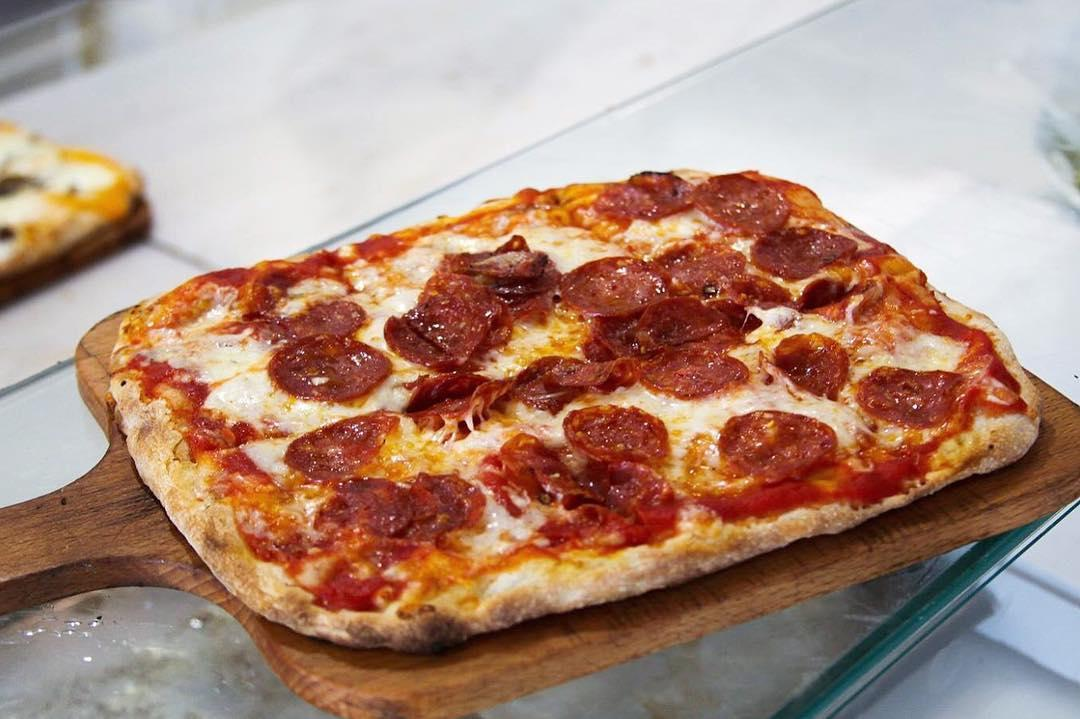Pepperoni: (309, 474, 483, 555), (389, 270, 517, 366), (586, 300, 728, 361), (288, 408, 408, 472), (720, 412, 834, 479), (262, 339, 390, 398), (855, 367, 958, 429), (692, 172, 792, 235), (399, 368, 515, 422), (557, 259, 664, 317), (516, 361, 639, 405), (772, 331, 850, 396), (599, 172, 692, 221), (665, 236, 744, 293), (752, 236, 857, 278), (569, 410, 667, 455), (253, 302, 362, 338), (640, 353, 745, 389)
Pizza: (132, 202, 541, 622), (544, 192, 928, 518)
